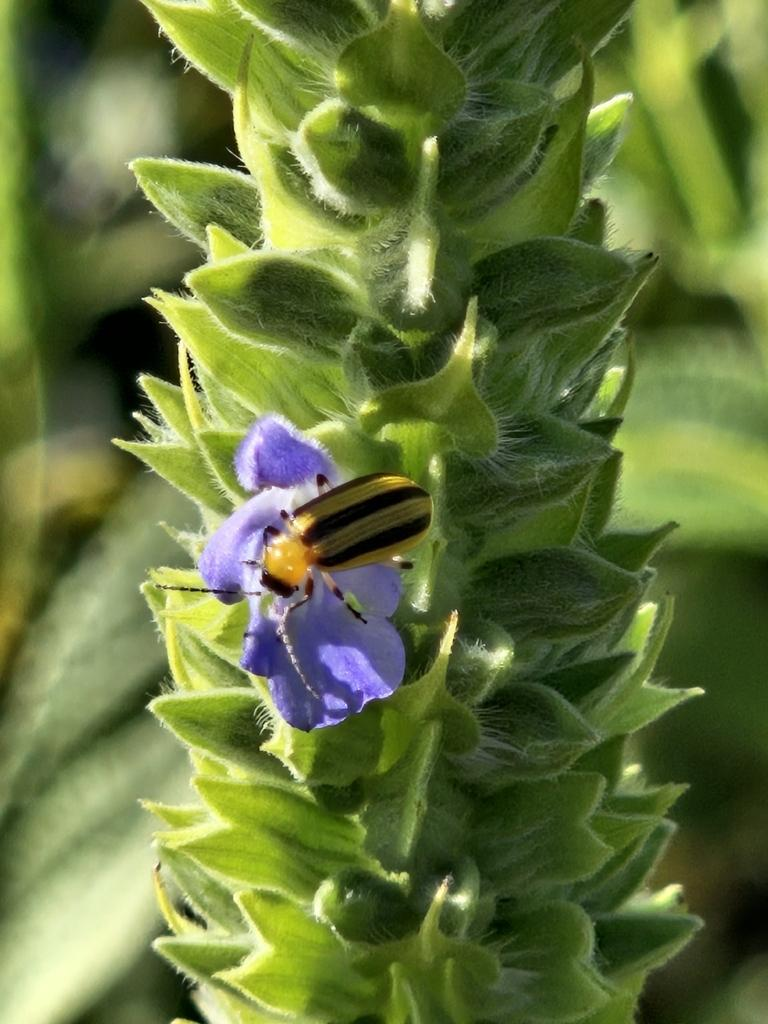potato_beetle: (117, 414, 501, 713)
